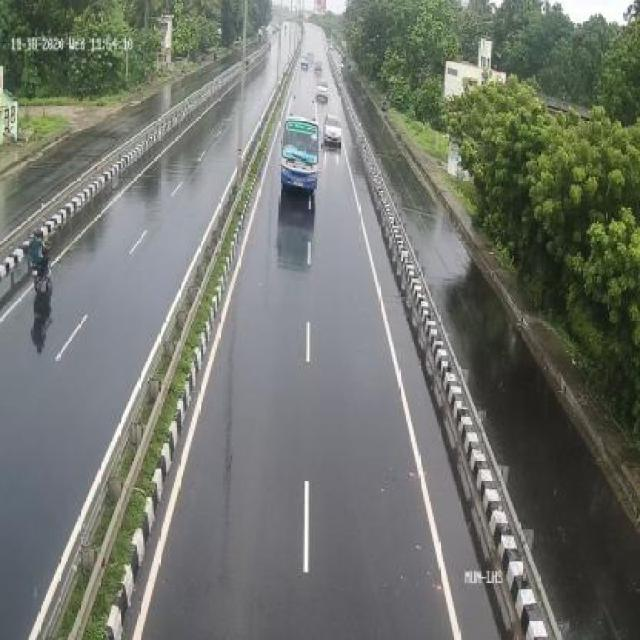car: (325, 105, 346, 152)
